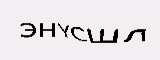Б: (40, 27, 56, 47)
З: (74, 22, 86, 42)
М: (86, 21, 106, 39)
О: (58, 24, 75, 43)
У: (105, 20, 123, 39)
